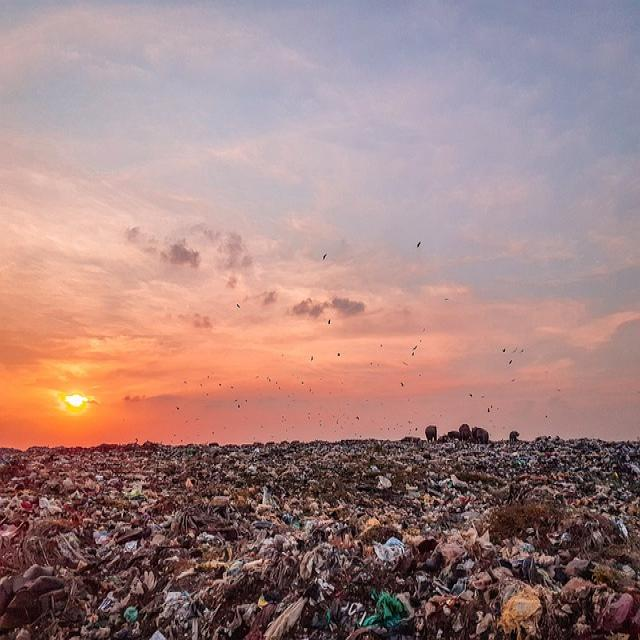trash: (113, 449, 492, 612)
